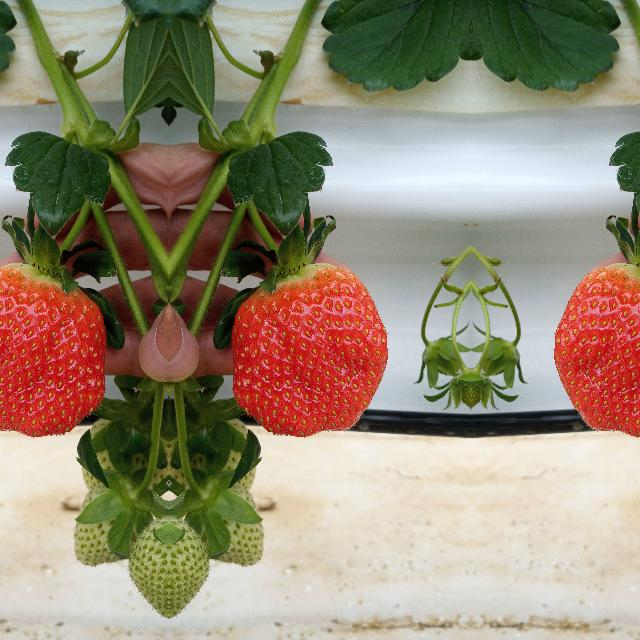Health_100: (230, 263, 388, 439), (0, 263, 105, 439), (553, 263, 640, 439)
Health_25: (174, 472, 274, 562), (62, 472, 162, 562), (168, 512, 206, 626), (130, 512, 168, 626)
